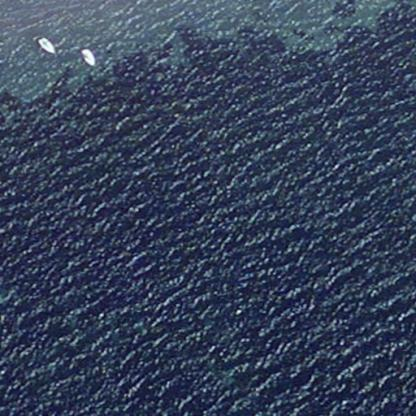ship: (74, 43, 98, 69), (35, 34, 58, 56)
